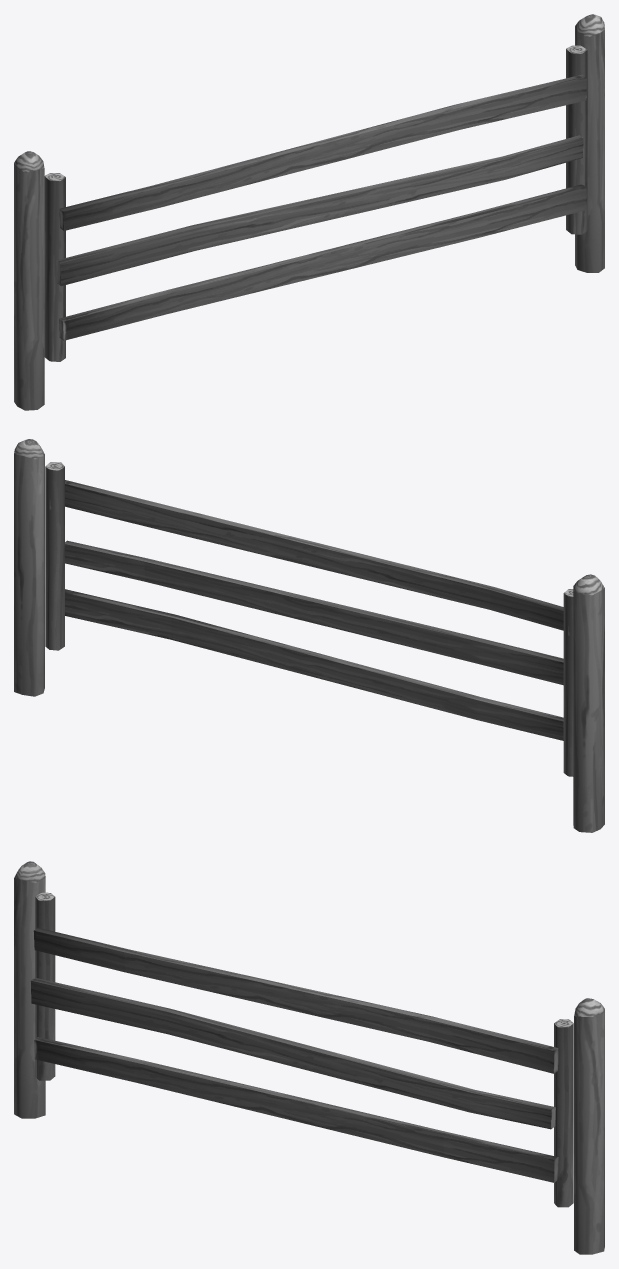
Rendered from Gate01.fbx.
3 renders of one model, top to bottom at view 1: azimuth 30°, elevation 25°; view 2: azimuth 150°, elevation 25°; view 3: azimuth 330°, elevation 25°, orthographic.
Visible parts, largest first — view 1: Door01_LOD0, Frame01_LOD0; view 2: Door01_LOD0, Frame01_LOD0; view 3: Door01_LOD0, Frame01_LOD0.
Boxes of the visible parts, x1,y1,x2,y2 form: Door01_LOD0: (44,45,587,361); Frame01_LOD0: (14,14,604,410); Door01_LOD0: (45,462,573,776); Frame01_LOD0: (14,439,604,832); Door01_LOD0: (30,892,573,1207); Frame01_LOD0: (14,861,604,1254).
Size of what is drawn, in the model's own units: 252 by 103 by 18.78.
